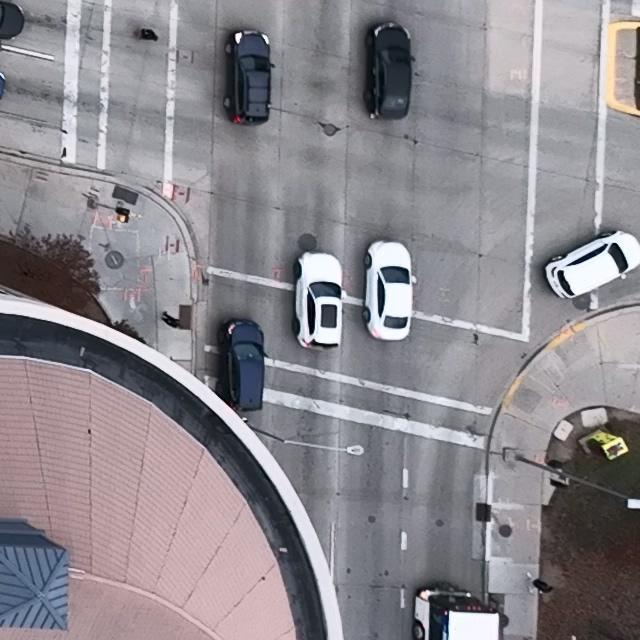car: (544, 229, 640, 300), (363, 240, 417, 342), (294, 252, 347, 351), (365, 21, 416, 121), (224, 30, 275, 125), (413, 584, 499, 640), (221, 320, 270, 412)
